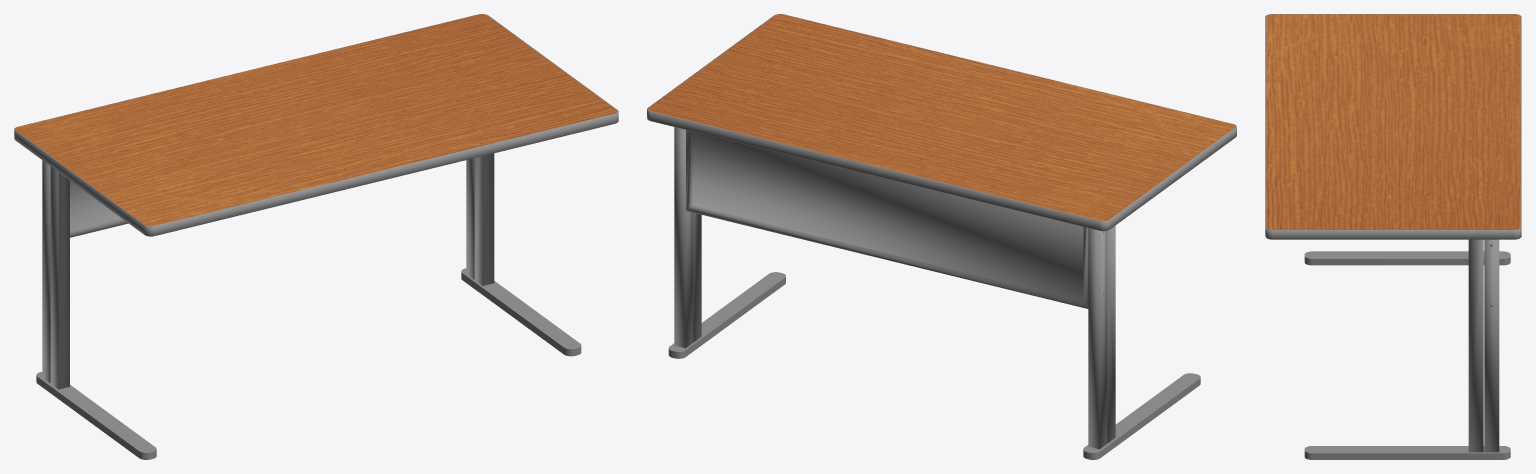
Rendered from mesa.fbx.
The picture shows the model from 3 angles, left to right: view 1: azimuth 30°, elevation 25°; view 2: azimuth 150°, elevation 25°; view 3: azimuth 270°, elevation 25°; orthographic projection. The views are drawn at different scales.
Visible parts, largest first — view 1: Desk Frame; view 2: Desk Frame; view 3: Desk Frame.
Boxes of the visible parts, x1,y1,x2,y2 form: Desk Frame: (14, 14, 618, 459); Desk Frame: (647, 14, 1236, 459); Desk Frame: (1265, 14, 1521, 459).
Bounding box in the file's own units: 374 × 191 × 187.
Materials: 3 (1 with a texture image).
